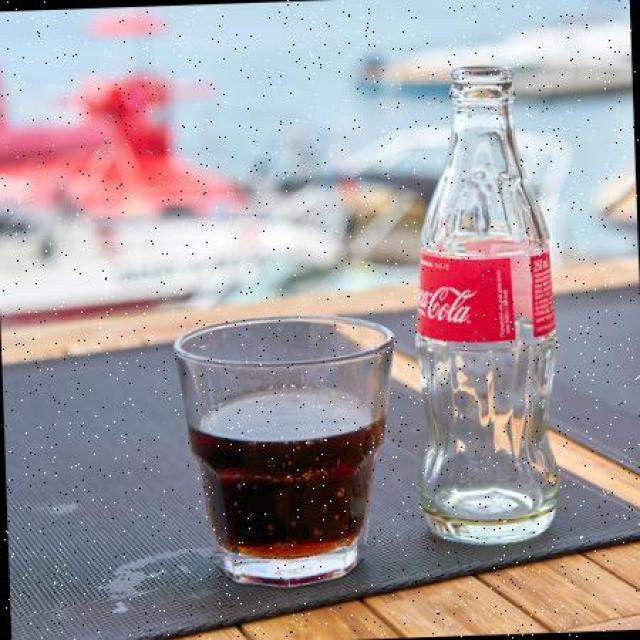coca-cola: (400, 52, 576, 550)
